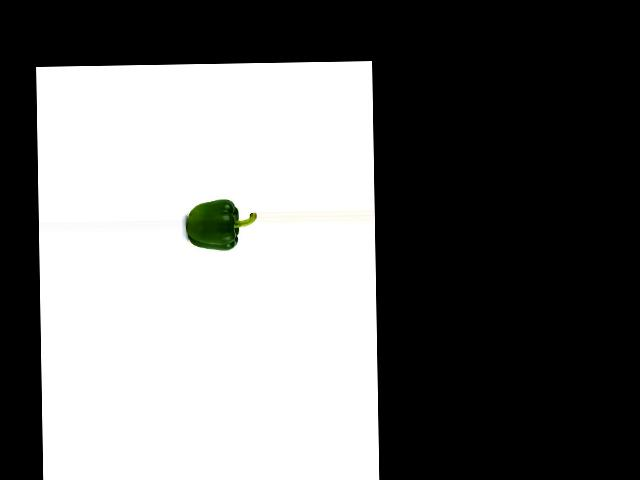bell_pepper: (185, 198, 255, 259)
